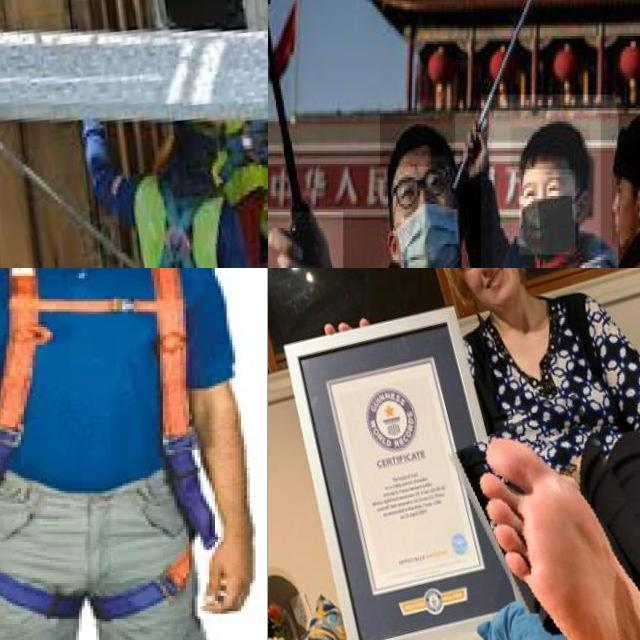Barefoots: (462, 426, 640, 640)
Harness: (0, 268, 205, 621), (150, 175, 199, 268)
No_Ear-Protection: (576, 182, 594, 228), (635, 185, 640, 221)
face_mask: (393, 156, 460, 268), (519, 169, 575, 255)
face_nomask: (612, 175, 636, 244)
glasses: (394, 165, 448, 211)
hand_noglove: (268, 211, 343, 268)
head_nohelmet: (380, 113, 455, 167), (511, 126, 590, 174)
person: (268, 121, 493, 268), (480, 94, 618, 268)
